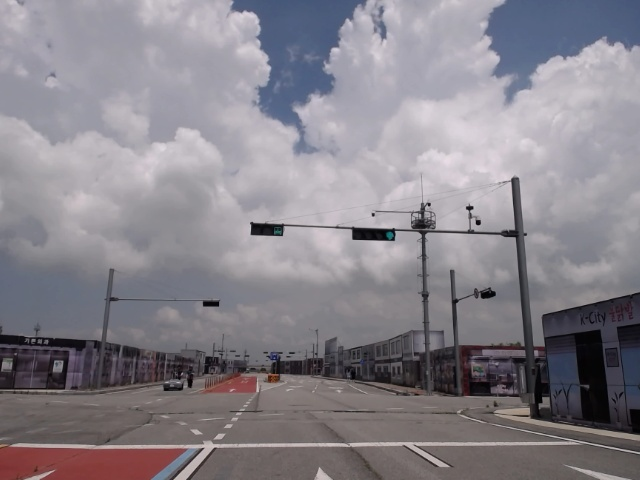straight_green_4: (352, 226, 398, 241)
